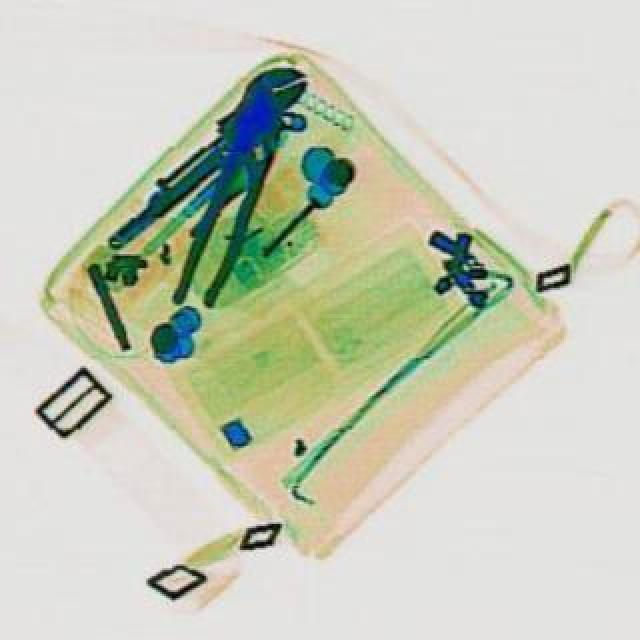wrench: (164, 98, 292, 324)
